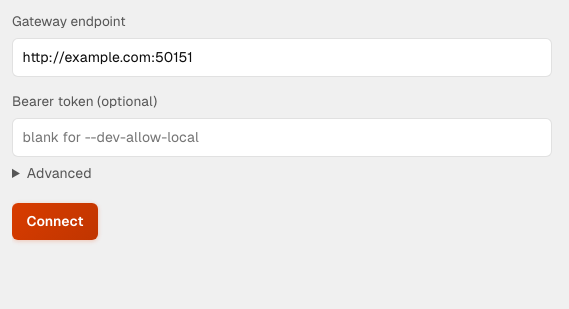
Test case: ConnectionForm › warns when a token would cross plaintext http to a remote host
Type "s3cr3t" into the password field labelled "Bearer token (optional)" at point(282, 138), box x1=12 y1=118 x2=552 y2=157
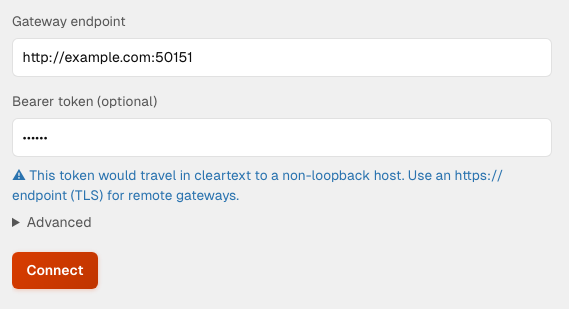
Now the text with test id "plaintext-warning" is shown, box x1=12 y1=165 x2=552 y2=206
